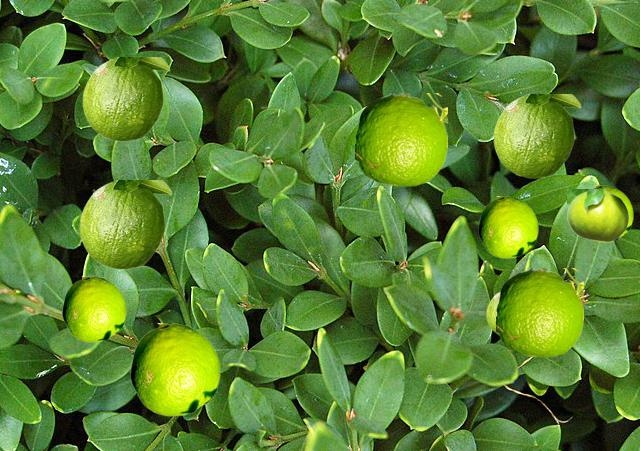dalandan: (355, 93, 446, 185), (130, 323, 219, 415), (79, 180, 171, 268), (496, 268, 582, 356), (82, 57, 169, 140), (493, 94, 580, 177), (62, 276, 125, 341), (478, 196, 537, 257), (567, 189, 628, 241), (590, 185, 632, 241), (486, 291, 499, 334)
